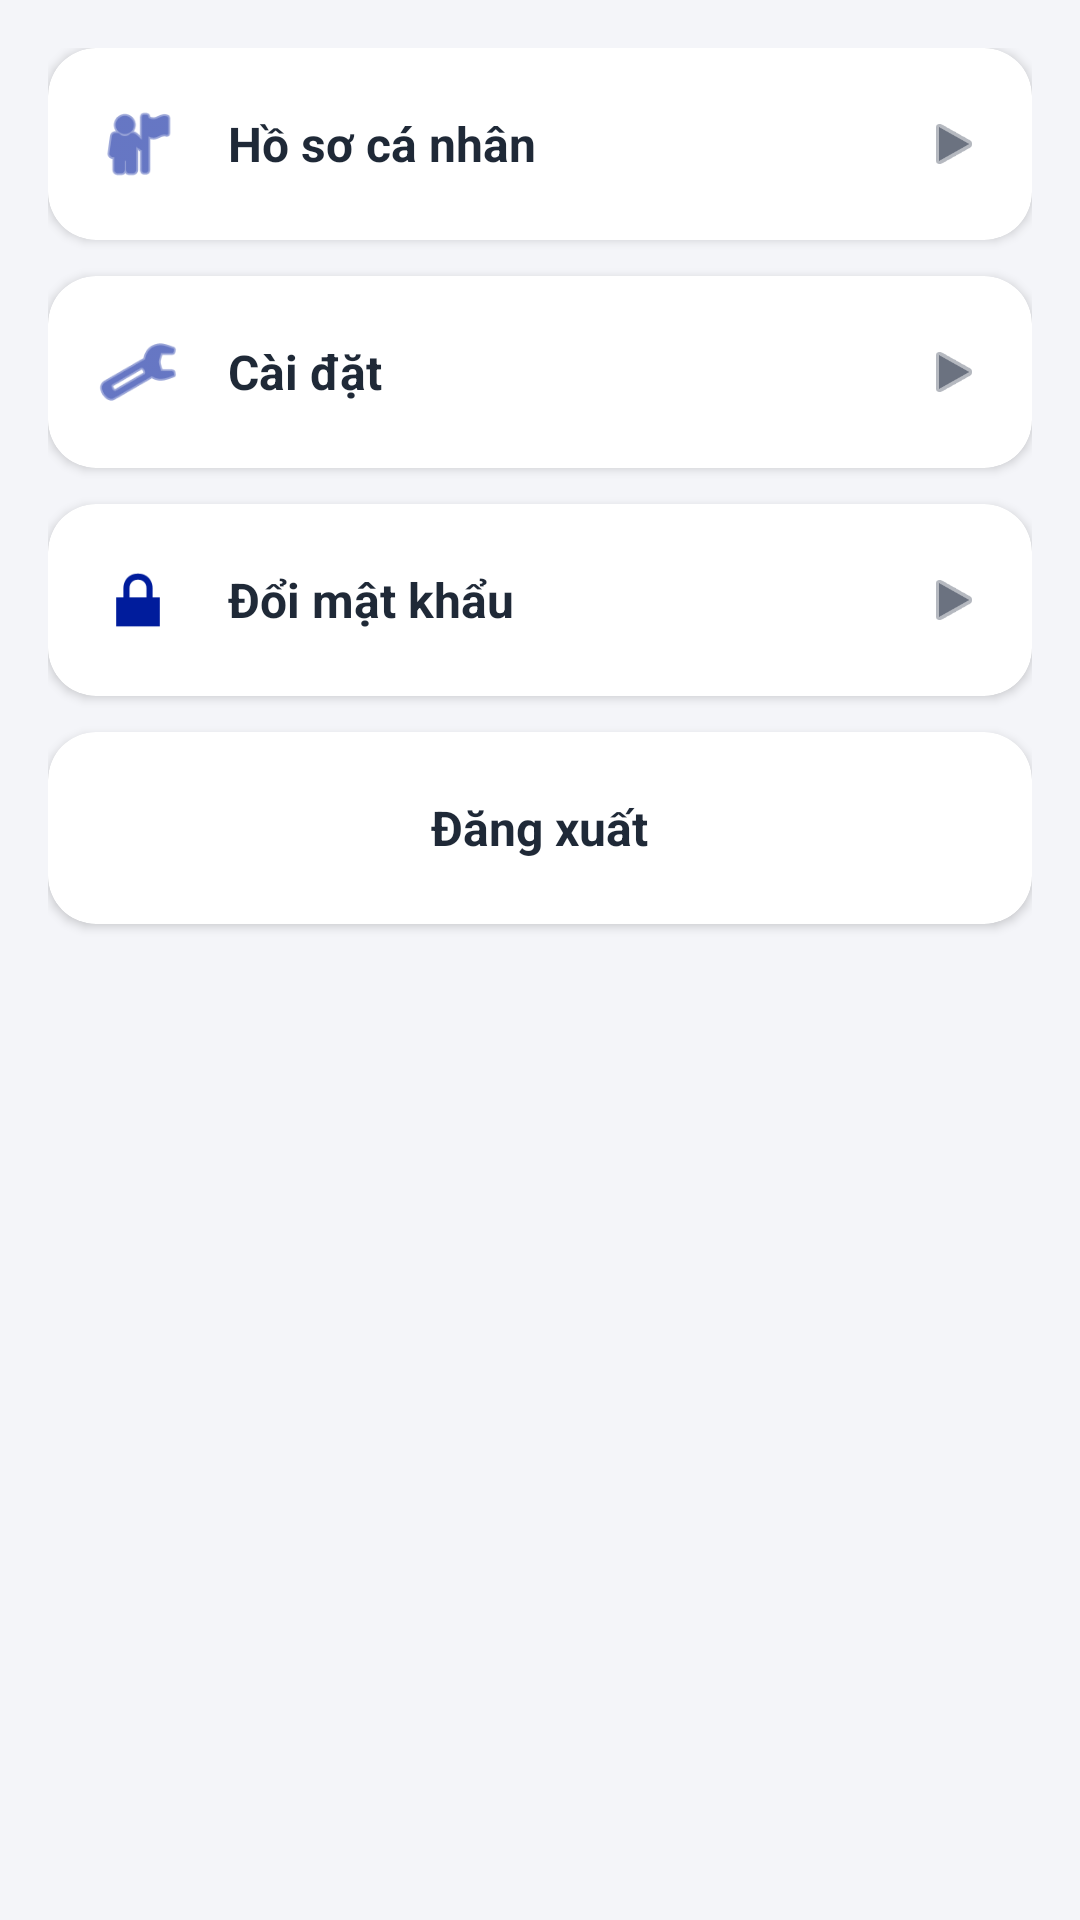

Locate icon controls on the screen. Image size 1080 × 1920, boxes as (x1=x1, y1=y1, x2=x2, y2=y2).
lock: (x1=116, y1=573, x2=160, y2=627)
myplaces: (x1=107, y1=113, x2=171, y2=175)
play: (x1=936, y1=124, x2=972, y2=164), (x1=936, y1=352, x2=972, y2=392), (x1=936, y1=580, x2=972, y2=620)
preferences: (x1=100, y1=343, x2=176, y2=401)
